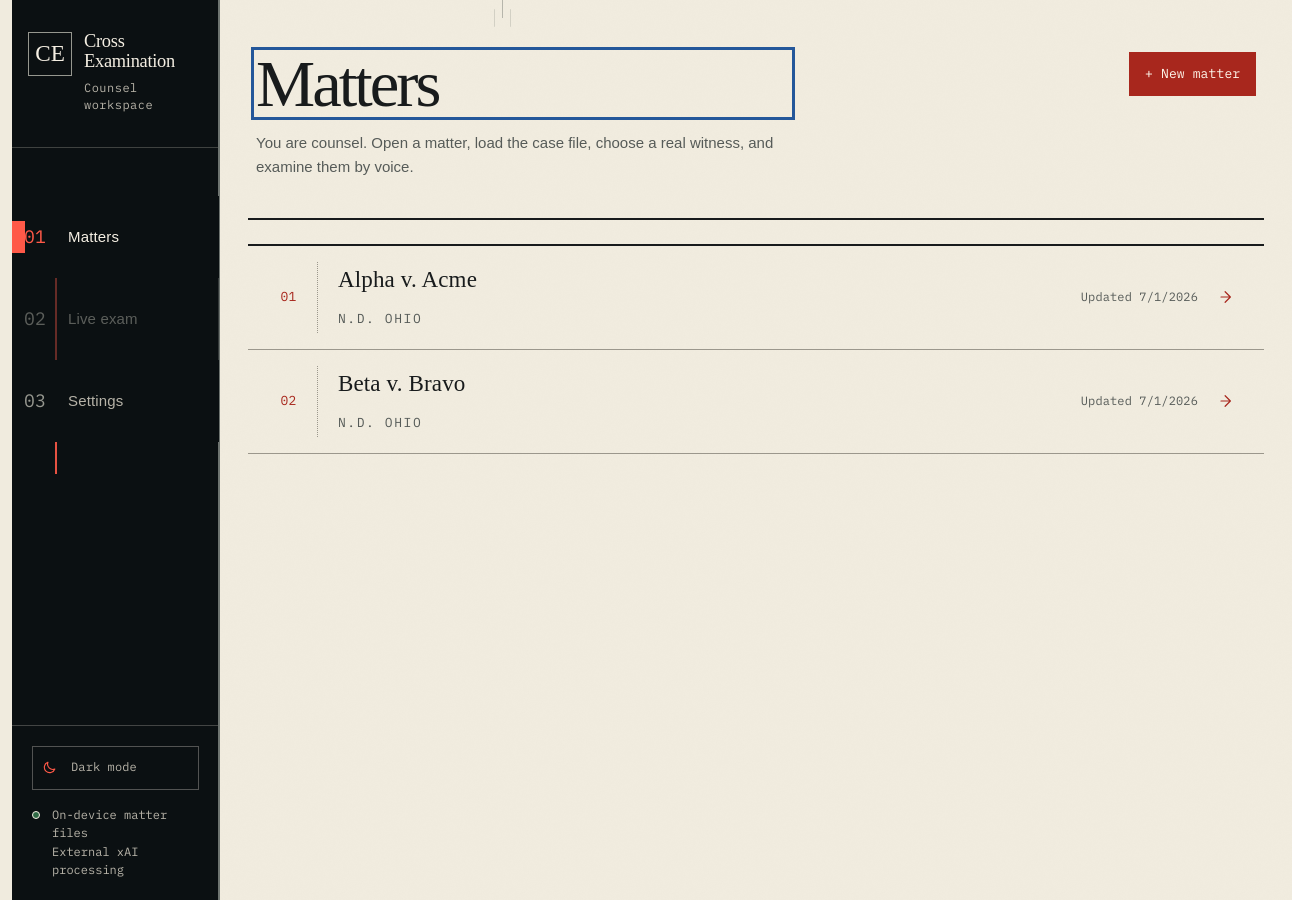
App async ownership › commits only the newest matter detail request
This screenshot has width=1292, height=900.
Click the button "01 Alpha v. Acme N.D. Ohio Updated 7/1/2026" at (289, 298), box [248, 246, 1264, 350]
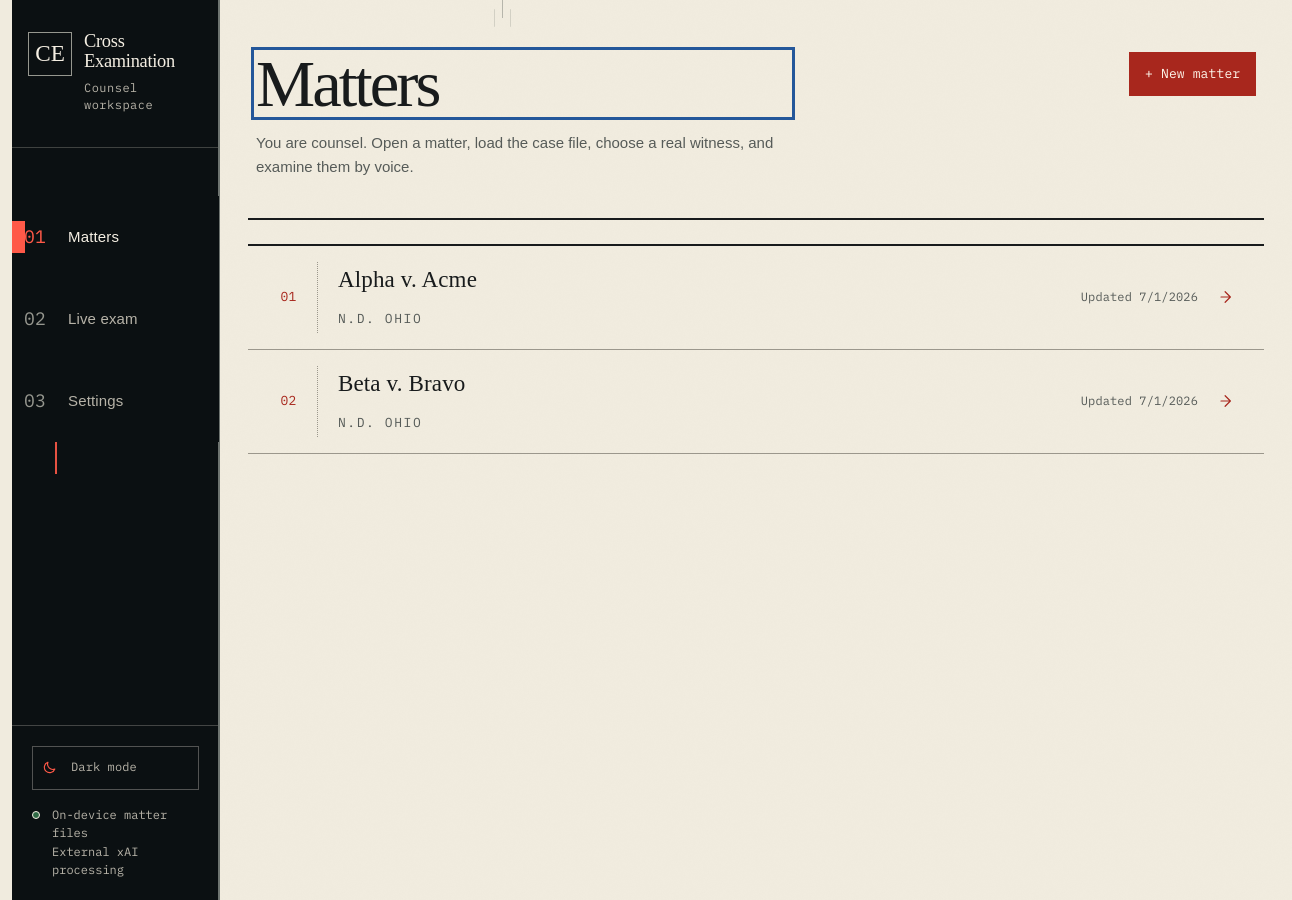
Click the button "02 Beta v. Bravo N.D. Ohio Updated 7/1/2026" at (289, 402), box [248, 350, 1264, 454]
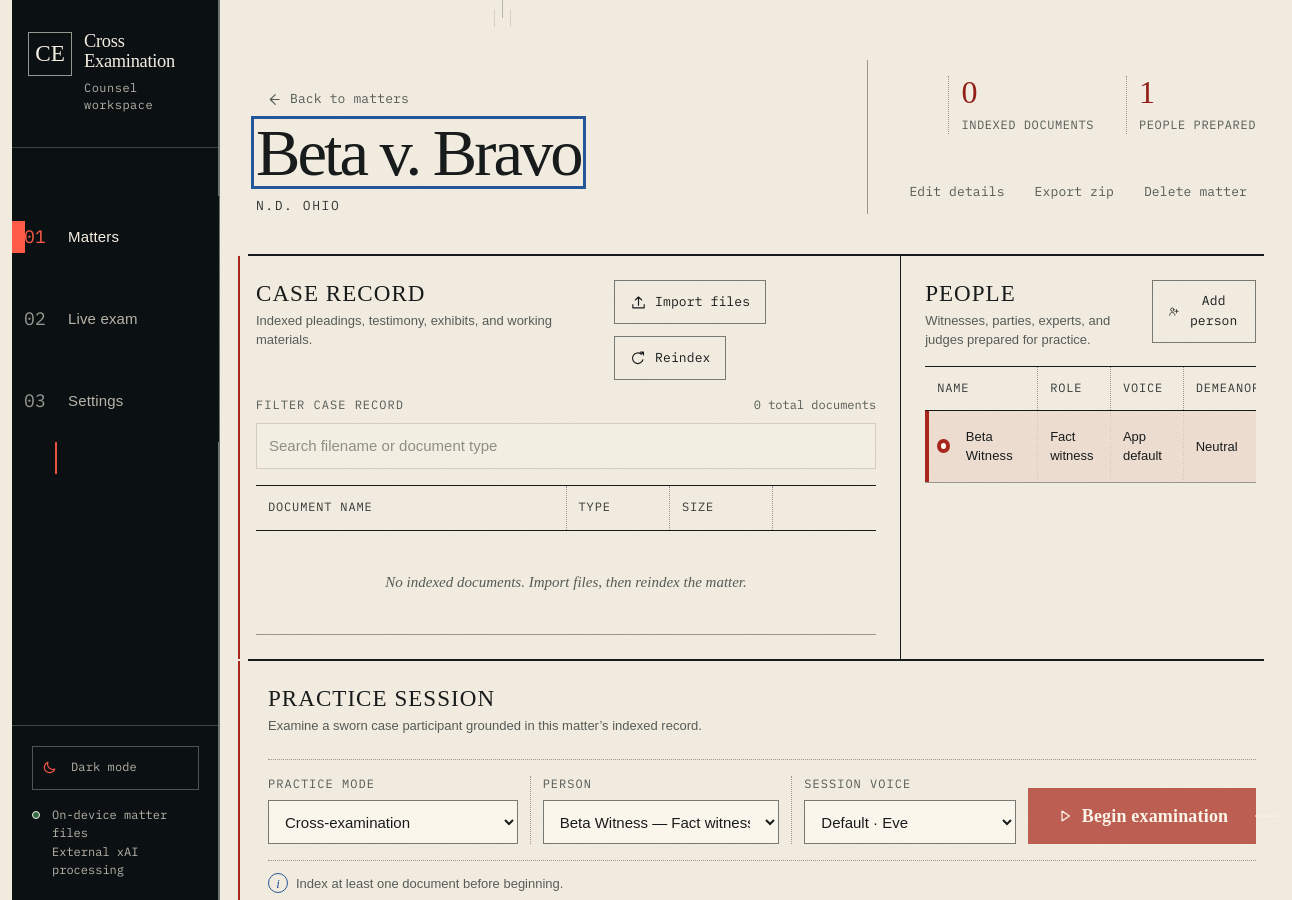
Expected: the text "Beta Witness" is shown, [966, 429, 1013, 463]
Expected: the heading "Beta v. Bravo" is shown, [256, 121, 580, 184]
